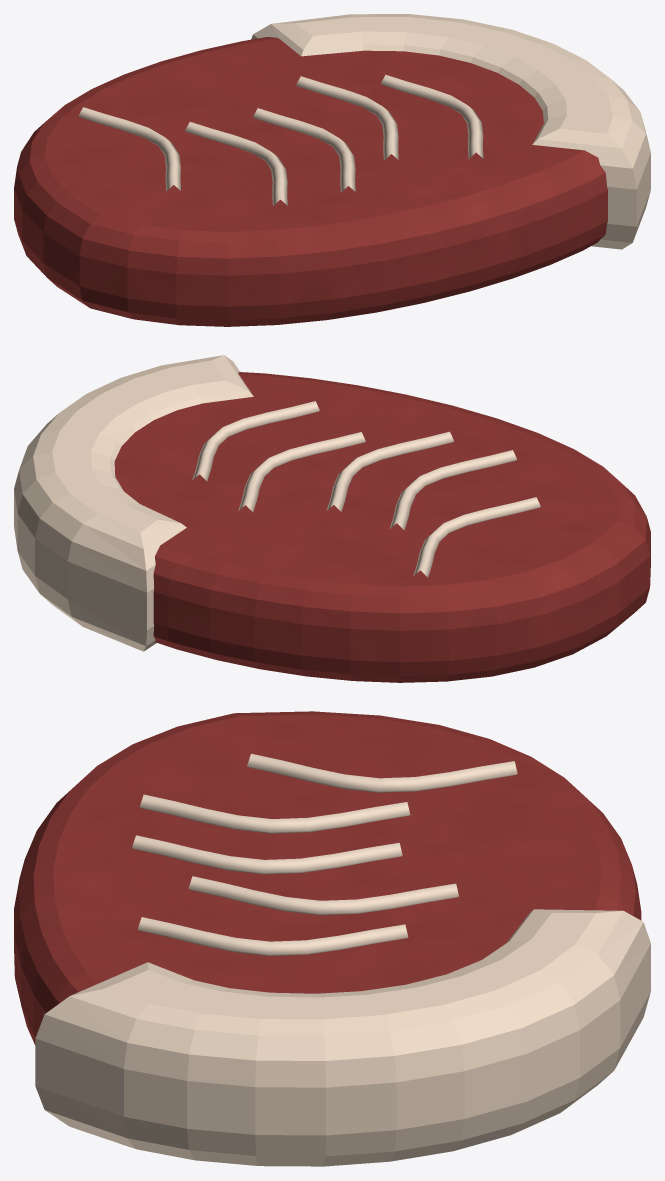
The model's file is raw_boar.glb.
3 views of the same model, one above another, from view 1: azimuth 30°, elevation 25°; view 2: azimuth 150°, elevation 25°; view 3: azimuth 270°, elevation 25° (orthographic). The views are drawn at different scales.
Parts seen in each view (by area): view 1: raw_boar; view 2: raw_boar; view 3: raw_boar.
Part boxes in pixels (box(x1,y1,x2,y2)): raw_boar: box(14, 14, 650, 326); raw_boar: box(14, 355, 650, 682); raw_boar: box(14, 711, 650, 1166).
Bounding box in the file's own units: 0.1908 × 0.036 × 0.1451.
Materials: 2 (1 with a texture image).
